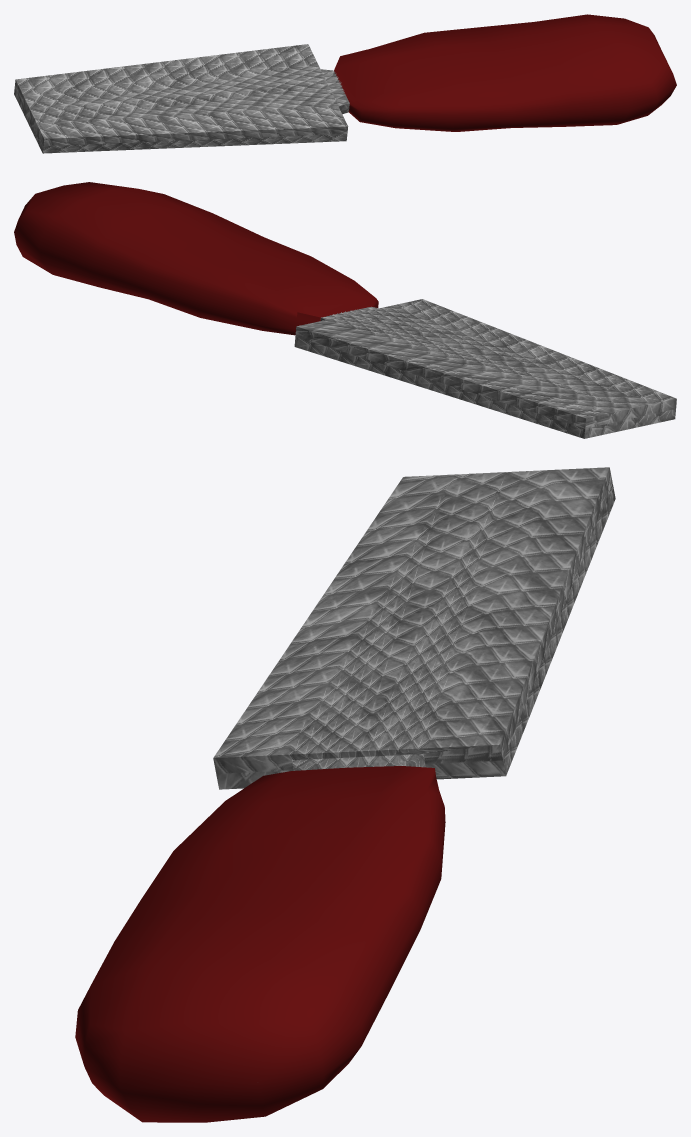
Rendered from Lija.fbx.
3 views of the same model, one above another, from view 1: azimuth 30°, elevation 25°; view 2: azimuth 150°, elevation 25°; view 3: azimuth 270°, elevation 25° (orthographic). The views are drawn at different scales.
Visible parts, largest first — view 1: Lija; view 2: Lija; view 3: Lija.
Part boxes in pixels (x1,y1,x2,y2): Lija: (14,14,676,153); Lija: (14,182,676,438); Lija: (75,467,615,1122).
Bounding box in the file's own units: 342 × 42.55 × 139.
1 material, 1 textured.
